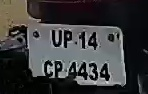1: (78, 29, 87, 52)
3: (88, 61, 98, 83)
4: (98, 60, 112, 86), (86, 31, 99, 54), (77, 60, 89, 83), (67, 59, 77, 79)
C: (43, 58, 54, 77)
P: (63, 27, 72, 52), (53, 58, 63, 78)
U: (50, 29, 62, 49)
